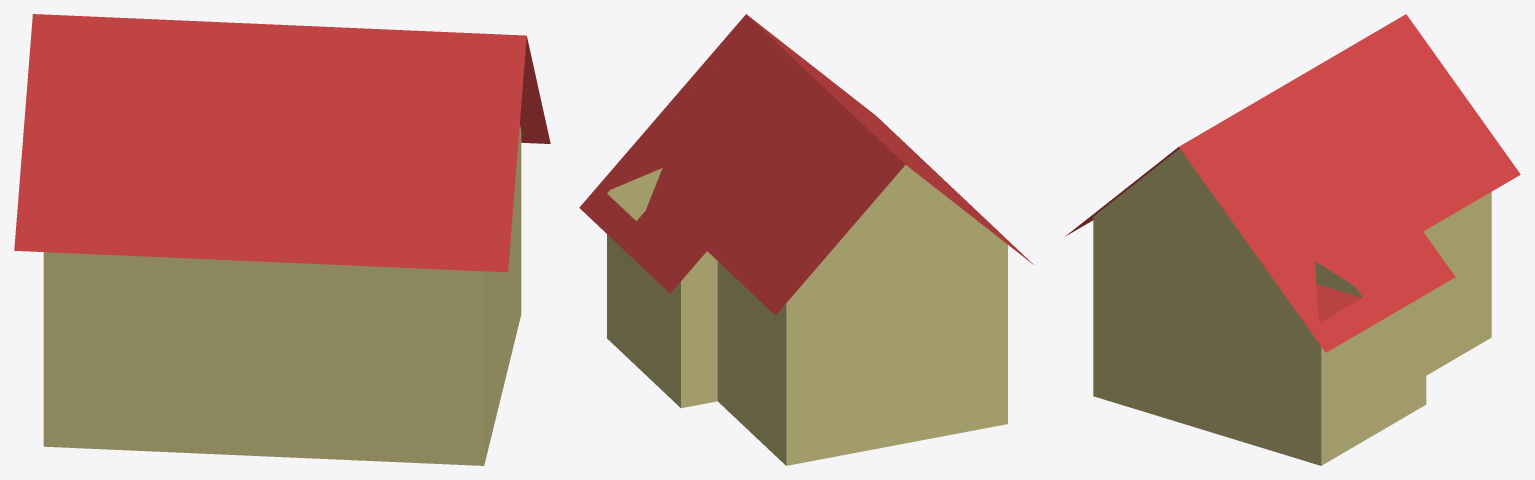
The picture shows the model from 3 angles, left to right: view 1: azimuth 30°, elevation 25°; view 2: azimuth 150°, elevation 25°; view 3: azimuth 270°, elevation 25°; orthographic projection. The views are drawn at different scales.
Bounding box in the file's own units: 24.01 × 21.77 × 15.07.
